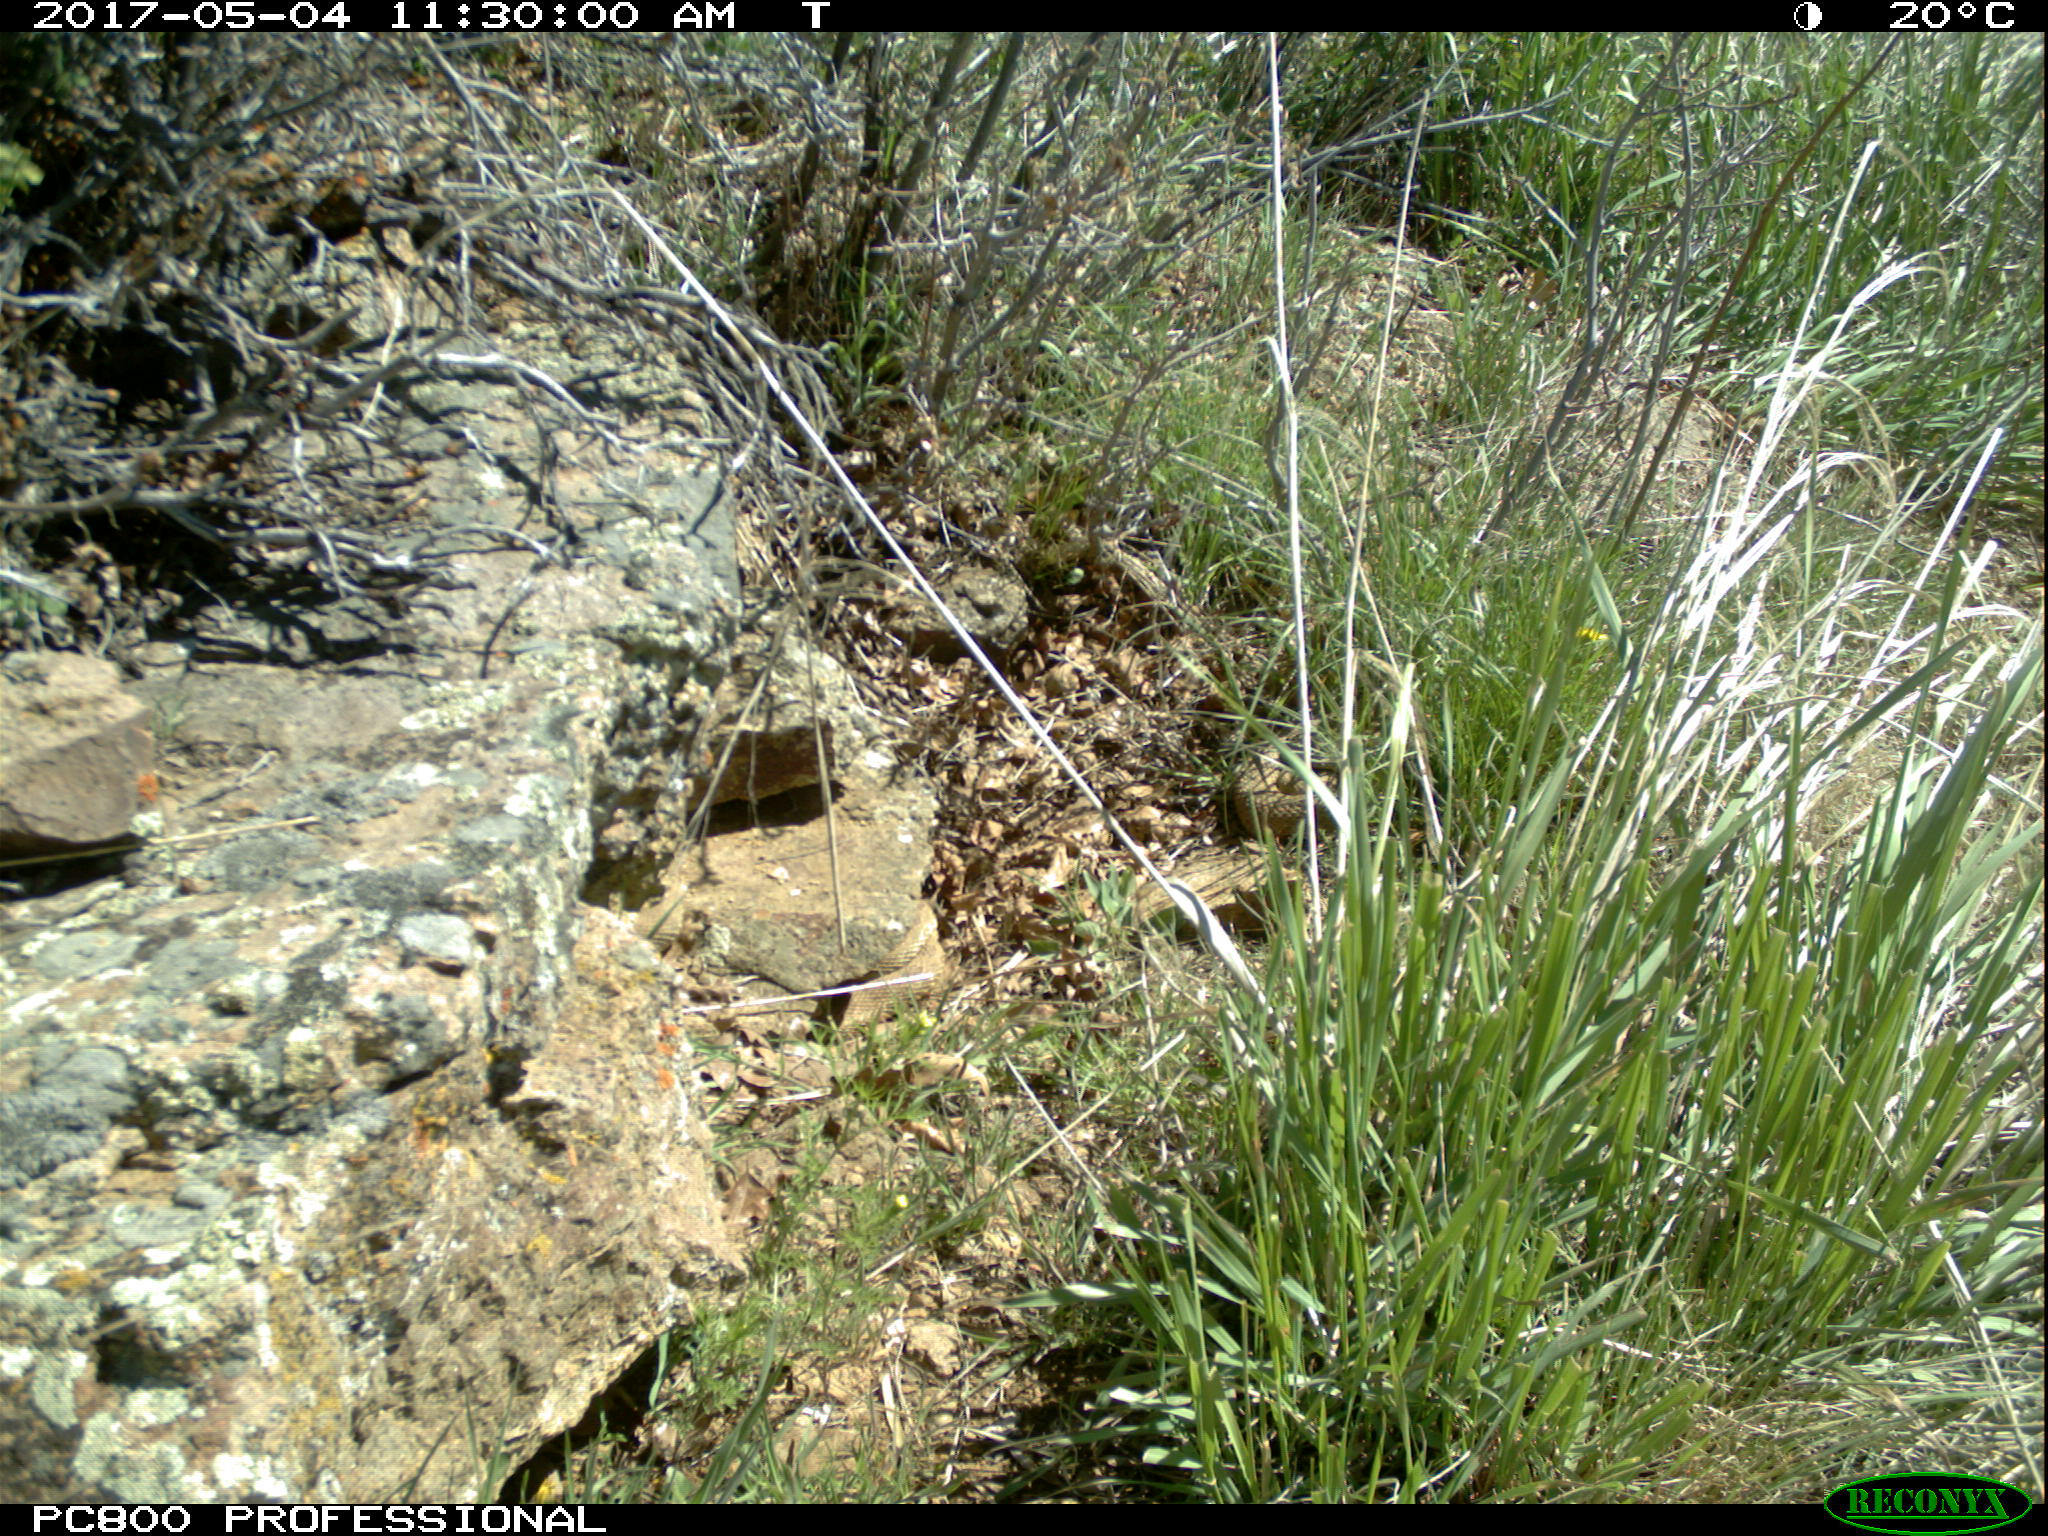snake: (843, 908, 972, 1029), (1230, 741, 1347, 842)
